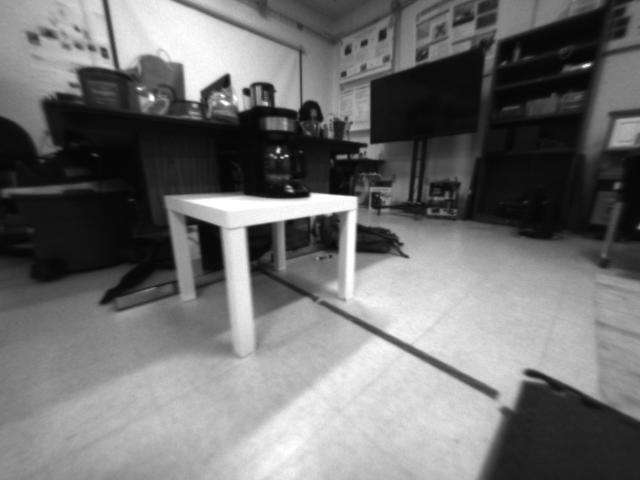coffee_pot: (236, 107, 311, 197)
